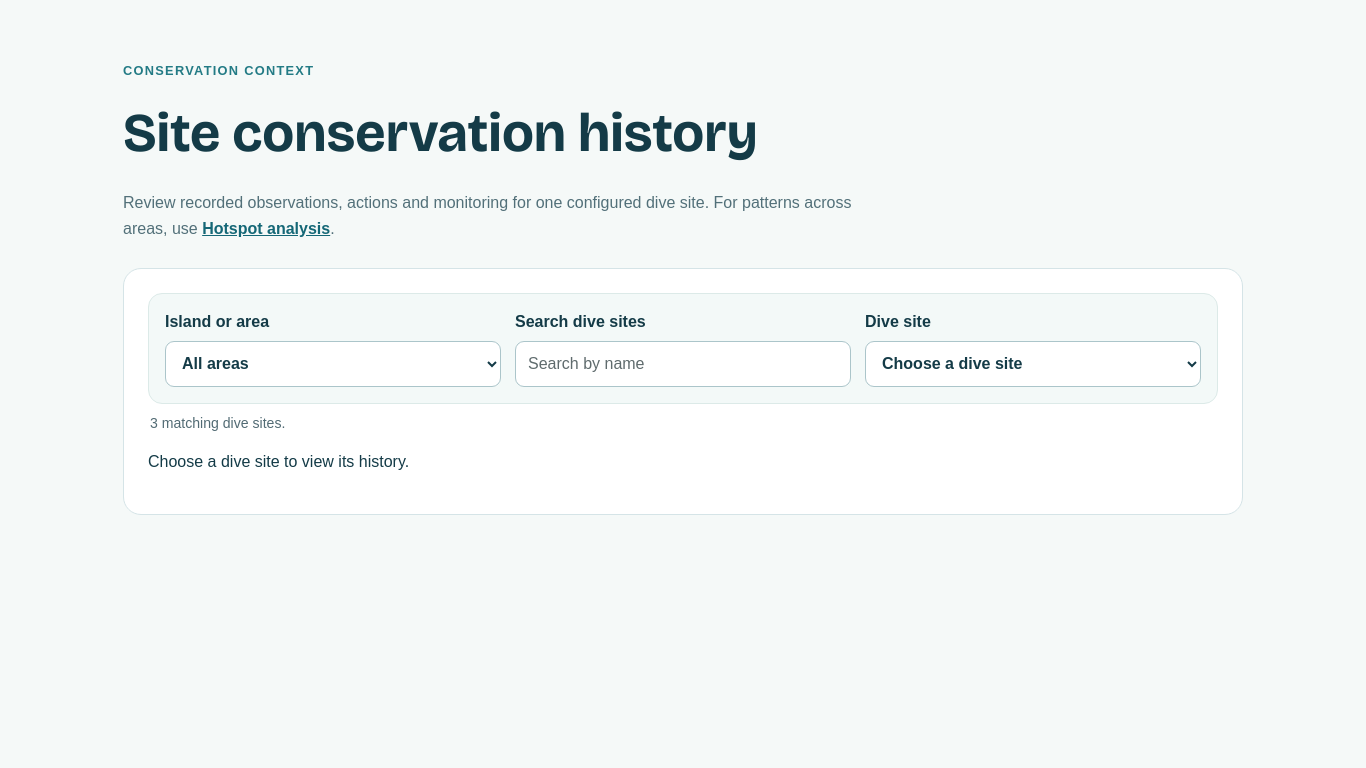
Test: site history selection › narrows the site list by area and name, then loads the selected history
Expected: the text "Choose a dive site to view its history." is shown, [148,453,409,470]
Expected: the dropdown labelled "Dive site" shows "Choose a dive site", [865,341,1201,387]
Select "Tioman Island" in the dropdown labelled "Island or area" at (333, 364), box [165,341,501,387]
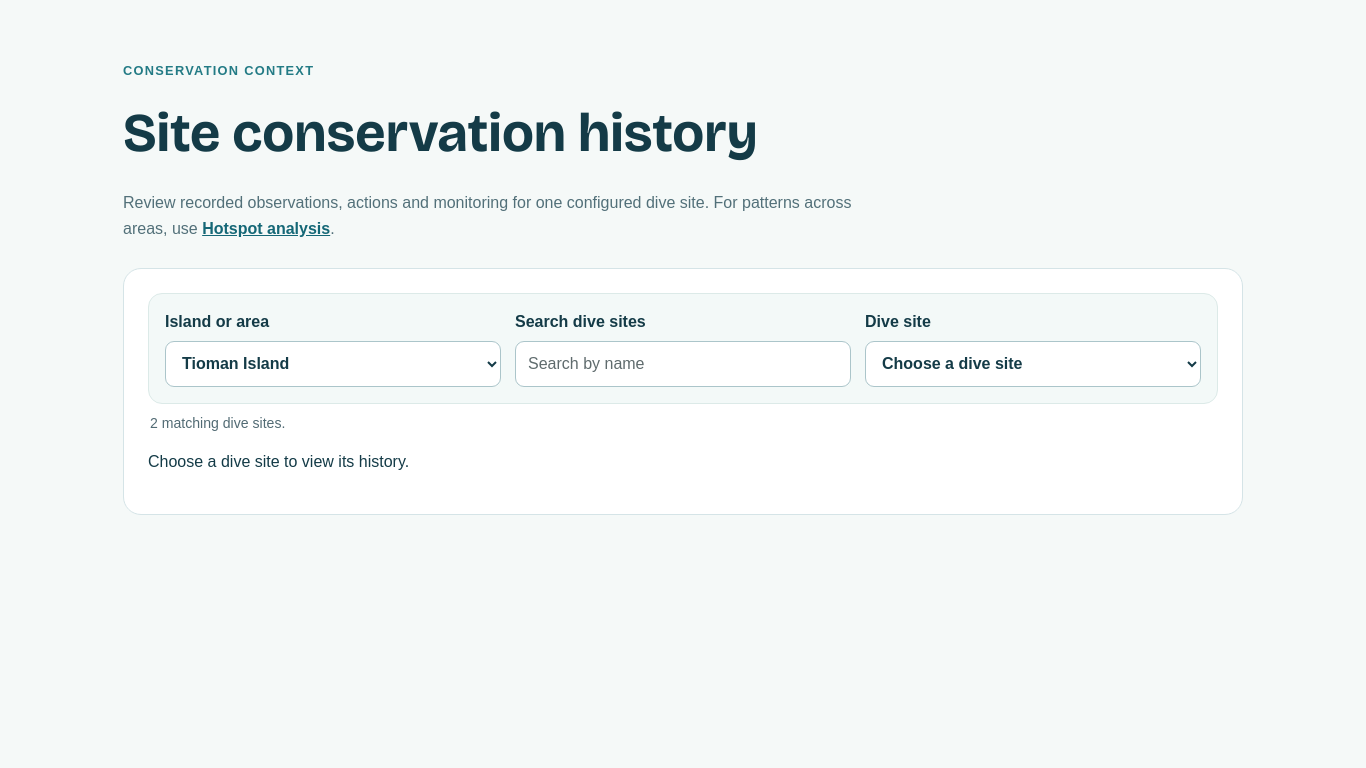
Expected: the dropdown labelled "Dive site" shows "Choose a dive site", [865,341,1201,387]
Expected: the dropdown labelled "Dive site" does not show "Batu Nisan", [865,341,1201,387]
Type "Coral" into the search field labelled "Search dive sites" at (683, 364), box [515,341,851,387]
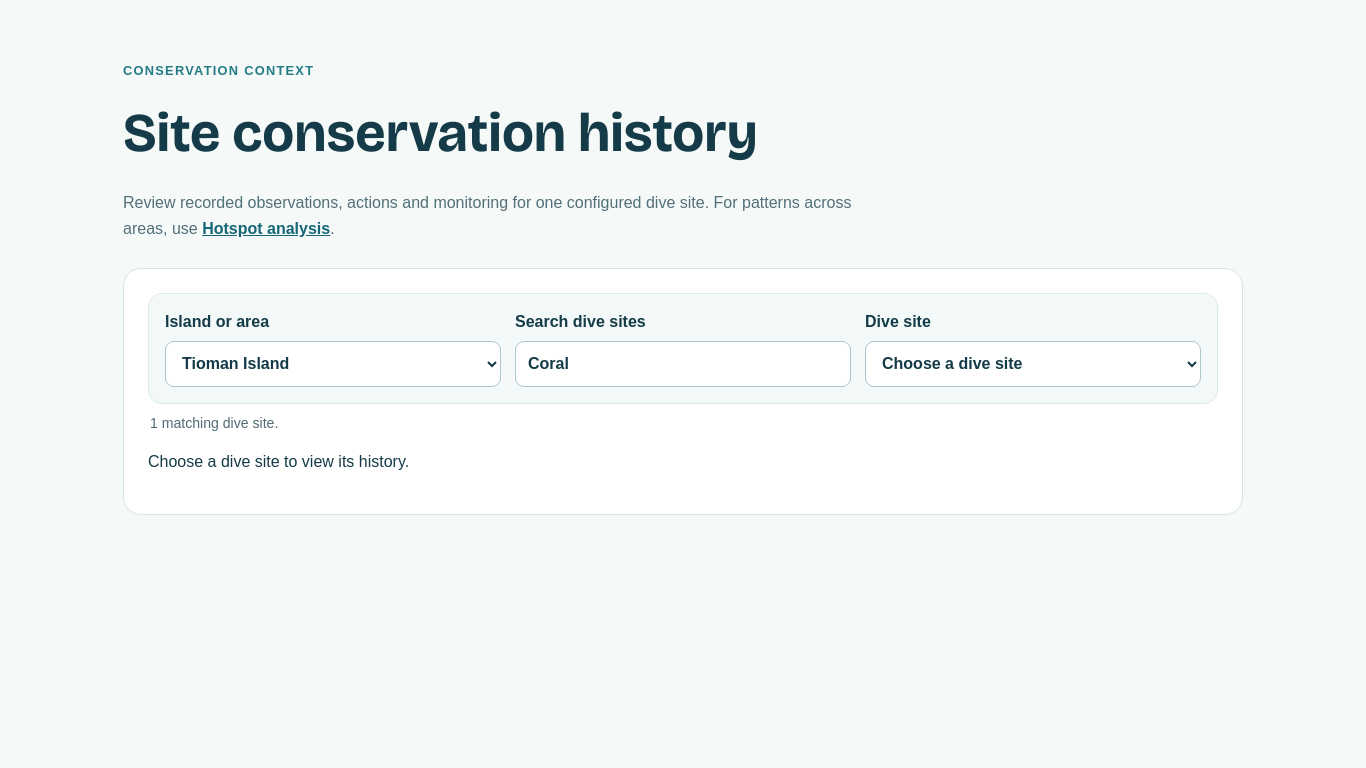
Expected: the text "1 matching dive site." is shown, [150,415,278,431]
Select "Coral Island · Tioman Island" in the dropdown labelled "Dive site" at (1033, 364), box [865,341,1201,387]
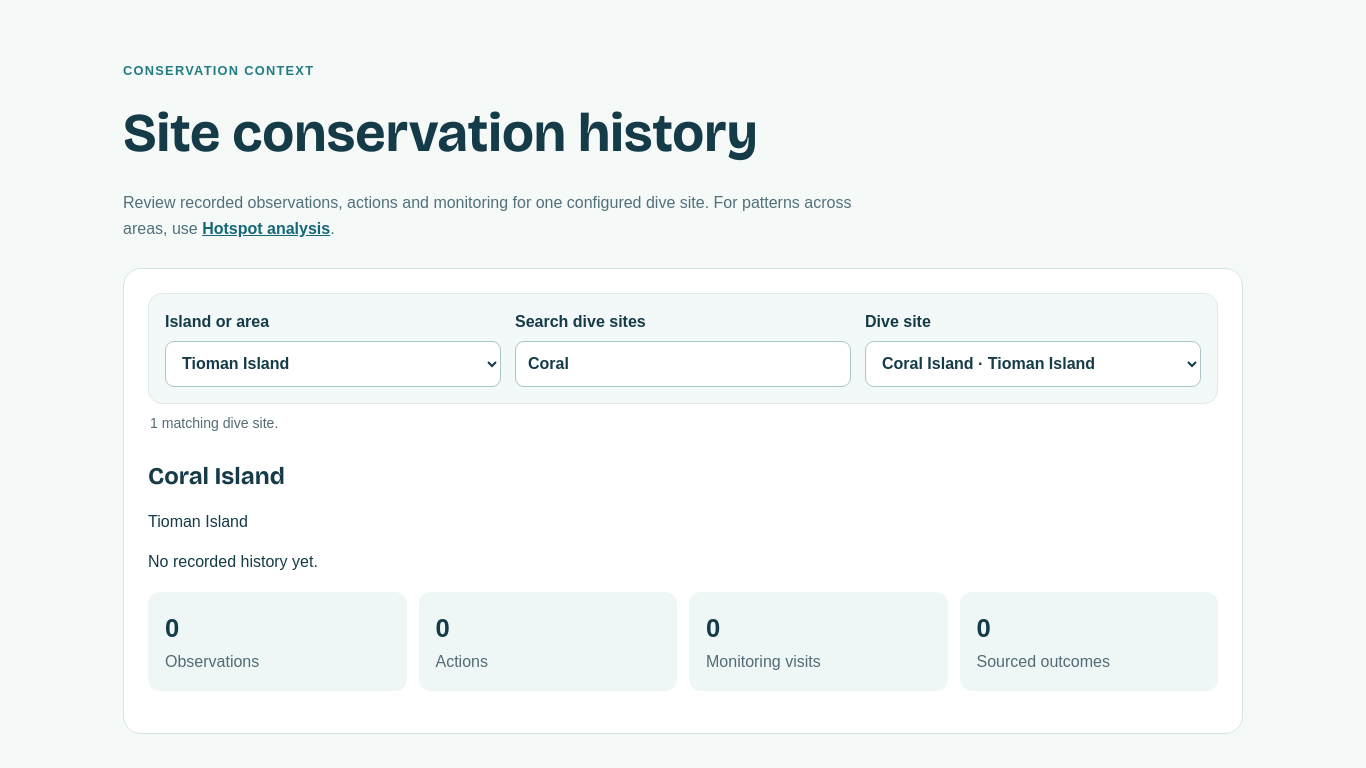
Expected: the heading "Coral Island" is shown, [148,462,285,490]
